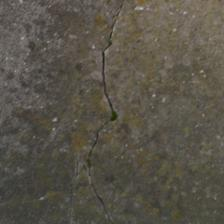Crack: (81, 16, 144, 187), (0, 0, 82, 86)
